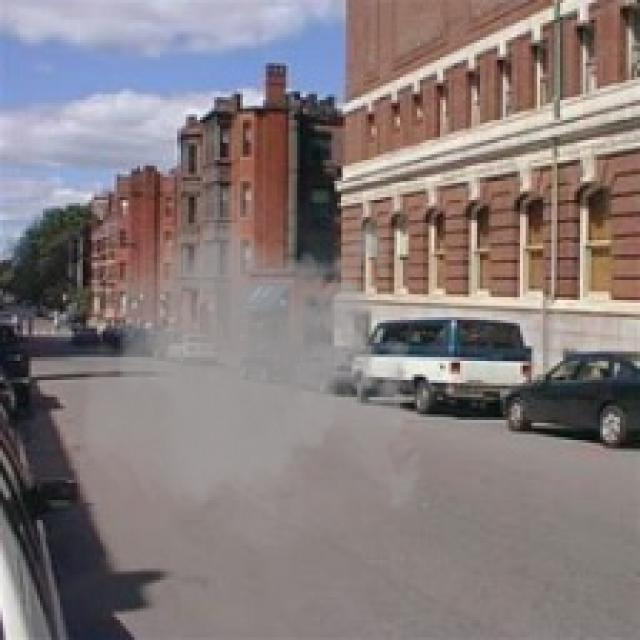Smoke: (77, 160, 432, 569)
